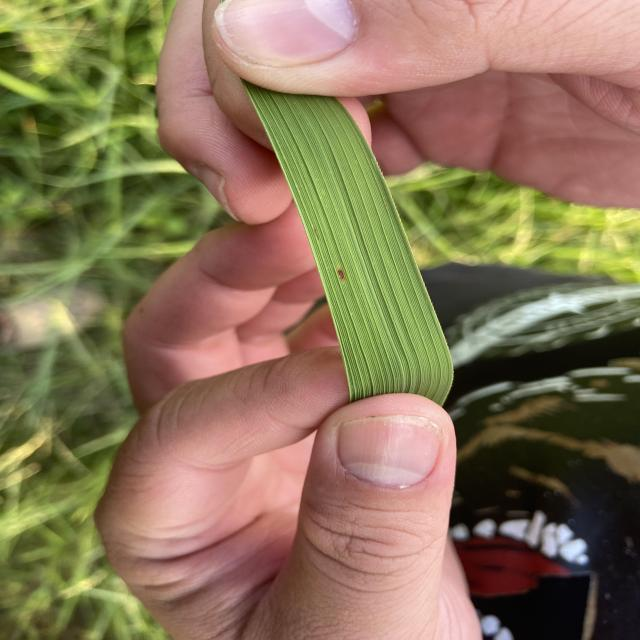Dom nau: (337, 269, 344, 279)
